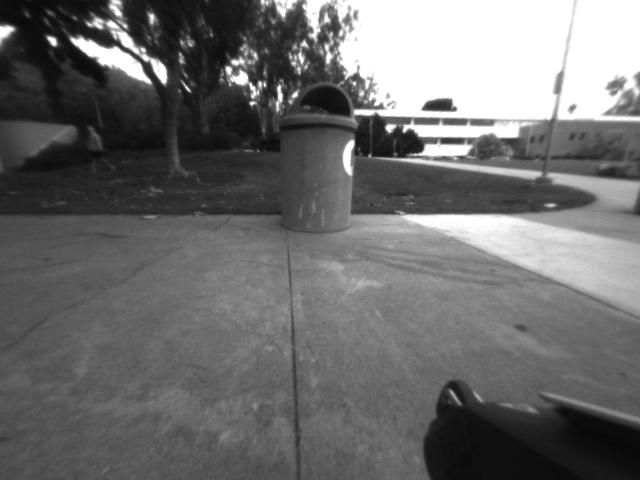trashcan: (276, 77, 358, 238)
